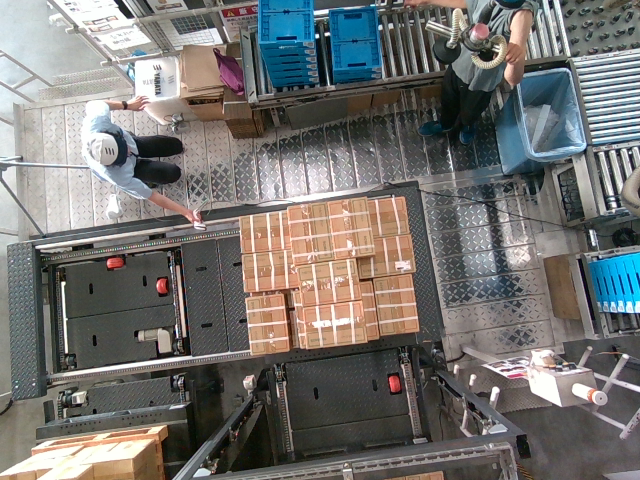box: (295, 261, 361, 302), (301, 304, 367, 345), (285, 204, 331, 262), (326, 198, 372, 256), (242, 295, 288, 353), (372, 274, 418, 332)
